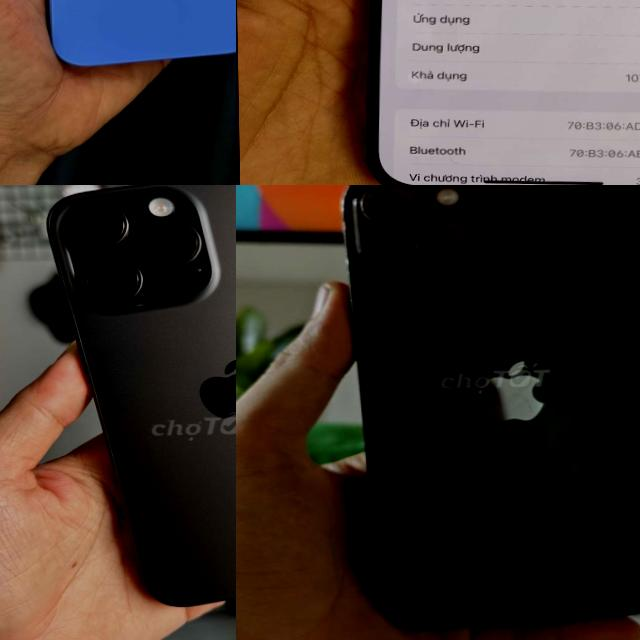gen_14: (335, 185, 640, 637), (354, 0, 640, 185)
gen_15: (30, 185, 236, 615)
gen_16: (47, 0, 236, 65)
